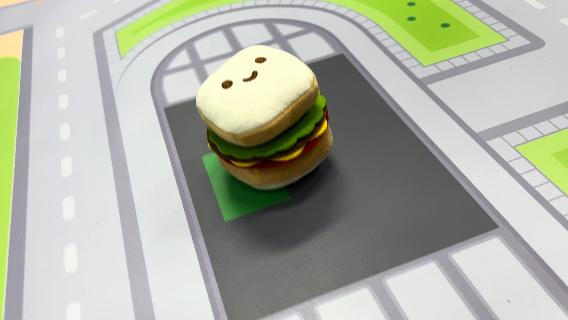sandwich: (194, 42, 336, 192)
